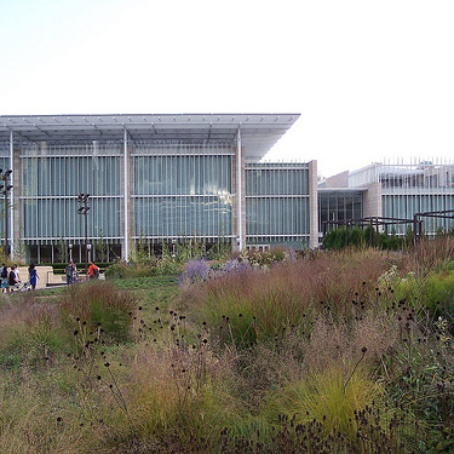building: (1, 103, 321, 263), (316, 160, 454, 240)
grass: (23, 260, 454, 454)
sky: (1, 1, 442, 109)
